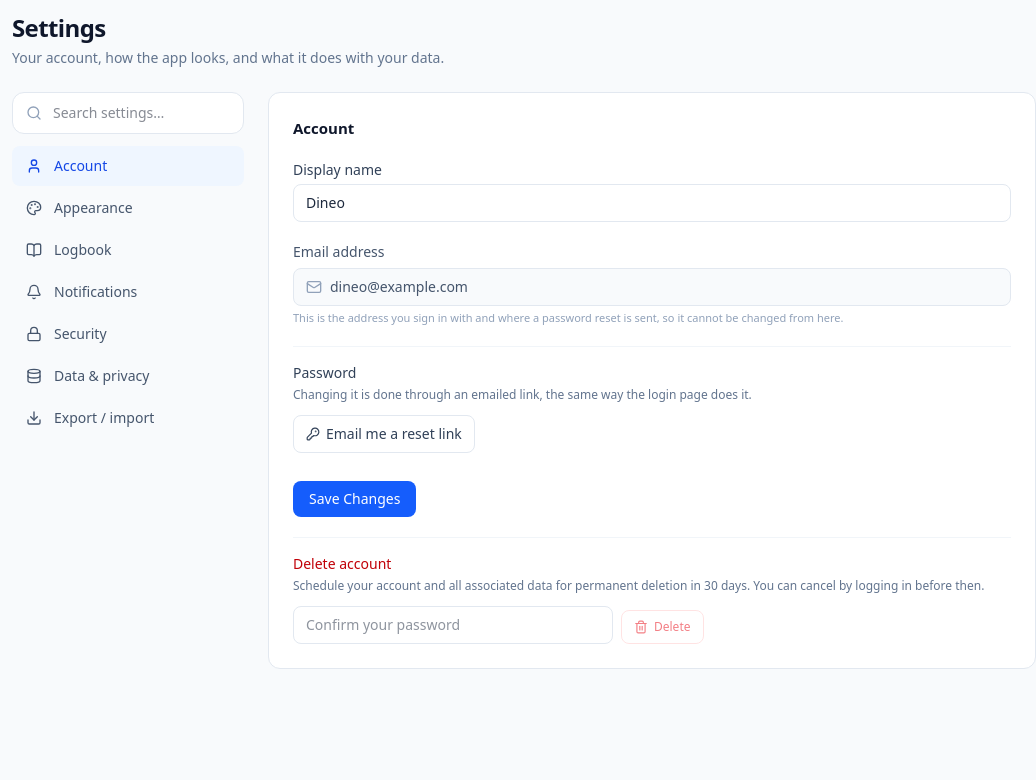
Test: SettingsPage — account › emails a password reset link instead of changing it in place
What coordinates should you click on to do the following:
click the button "Email me a reset link"
I would click on:
 (384, 434)
Its box is [293,415,475,453].
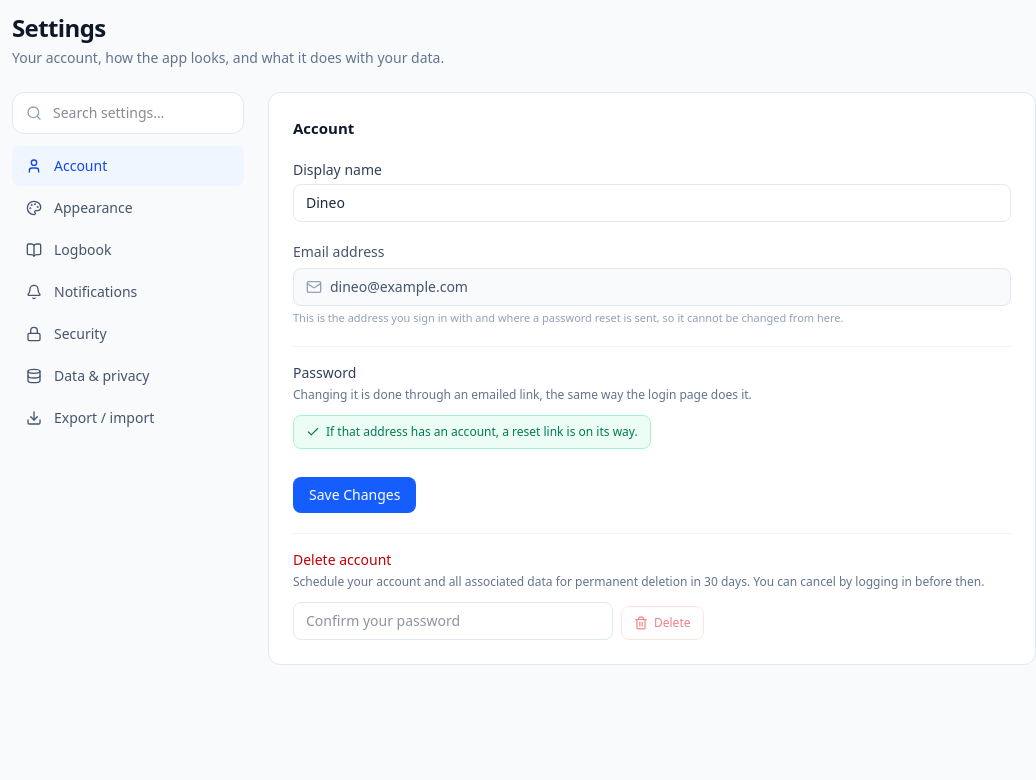
Result: the text "If that address has an account, a reset link is on its way." is shown at [293,415,651,449]
